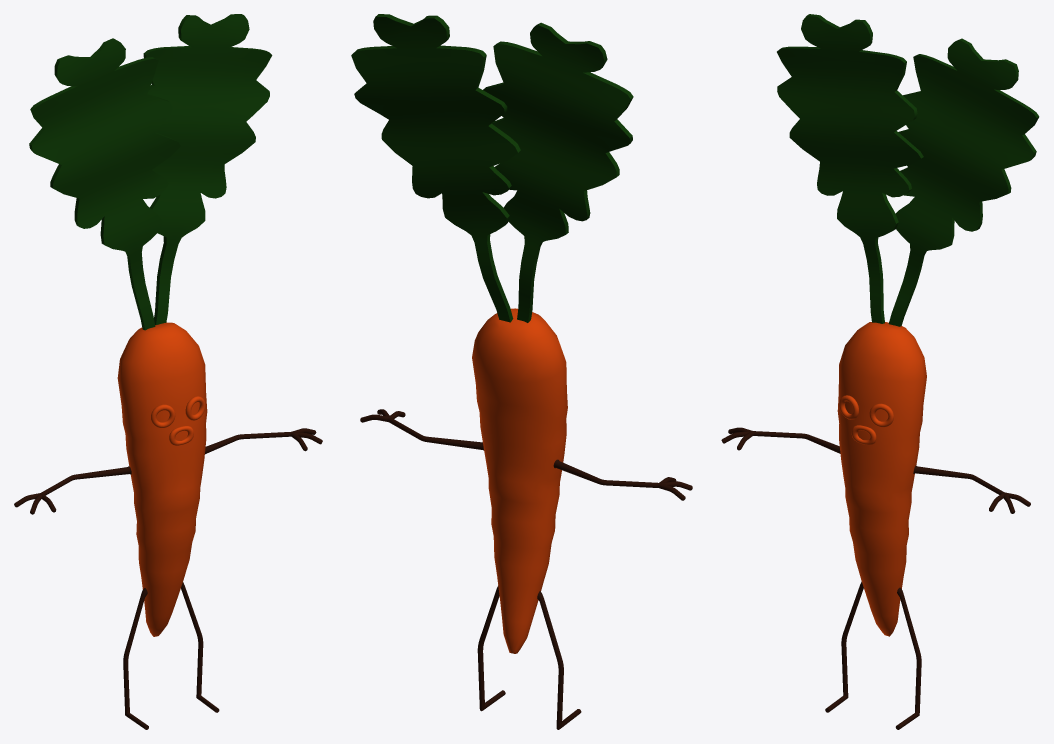
Rendered from mrkva karakter.fbx.
The picture shows the model from 3 angles, left to right: view 1: azimuth 30°, elevation 25°; view 2: azimuth 150°, elevation 25°; view 3: azimuth 330°, elevation 25°; orthographic projection. The views are drawn at different scales.
Parts seen in each view (by area): view 1: mrkva karakter; view 2: mrkva karakter; view 3: mrkva karakter.
Part boxes in pixels (left/top/right/bottom): mrkva karakter: left=14, top=14, right=322, bottom=729; mrkva karakter: left=351, top=14, right=692, bottom=729; mrkva karakter: left=721, top=14, right=1039, bottom=729.
Bounding box in the file's own units: 134 × 282 × 36.78.
